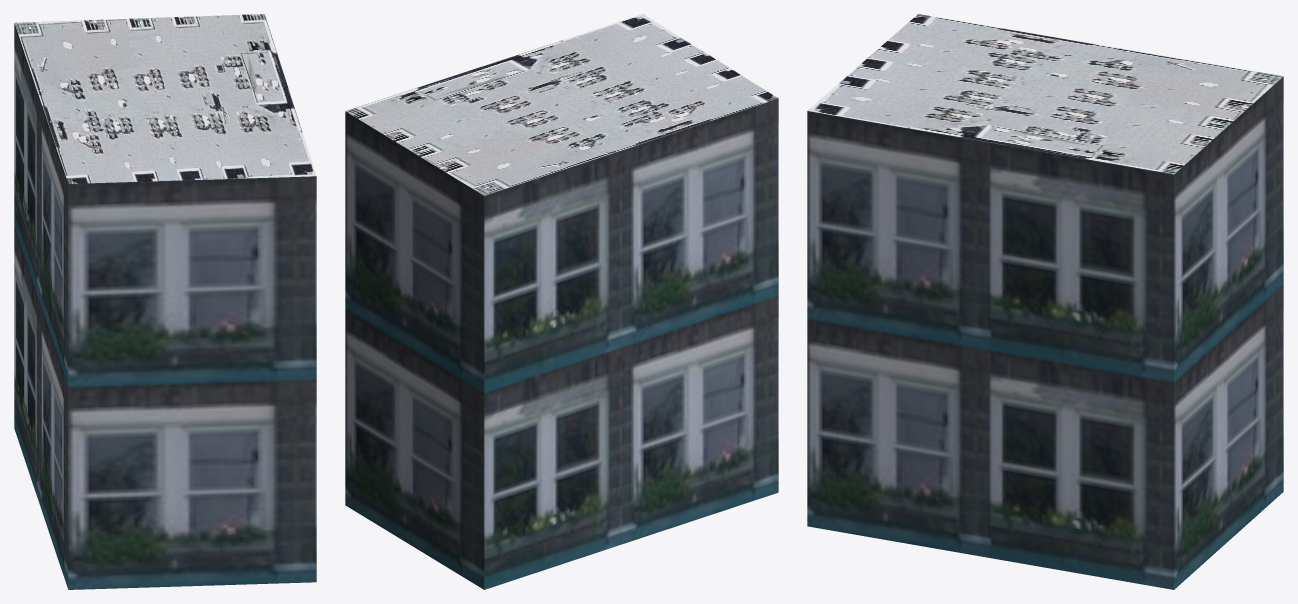
File: ResTex__577.fbx
3 renders of one model, left to right at view 1: azimuth 30°, elevation 25°; view 2: azimuth 150°, elevation 25°; view 3: azimuth 270°, elevation 25°, orthographic. The views are drawn at different scales.
Parts seen in each view (by area): view 1: CityEngineMaterial_11_m, CityEngineMaterial_8_m; view 2: CityEngineMaterial_11_m, CityEngineMaterial_8_m; view 3: CityEngineMaterial_11_m, CityEngineMaterial_8_m.
Boxes of the visible parts, x1,y1,x2,y2 form: CityEngineMaterial_11_m: (14, 23, 316, 589); CityEngineMaterial_8_m: (14, 14, 316, 183); CityEngineMaterial_11_m: (345, 98, 778, 589); CityEngineMaterial_8_m: (345, 14, 778, 195); CityEngineMaterial_11_m: (807, 76, 1283, 589); CityEngineMaterial_8_m: (807, 14, 1283, 174).
Size of the model in its own units: 4.97 by 6 by 6.24.
Materials: 2 (2 with a texture image).
